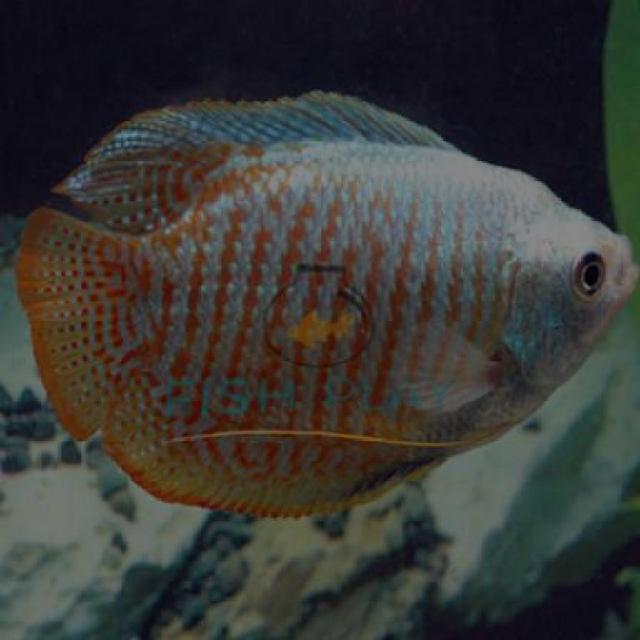Gourami: (11, 77, 638, 535)
